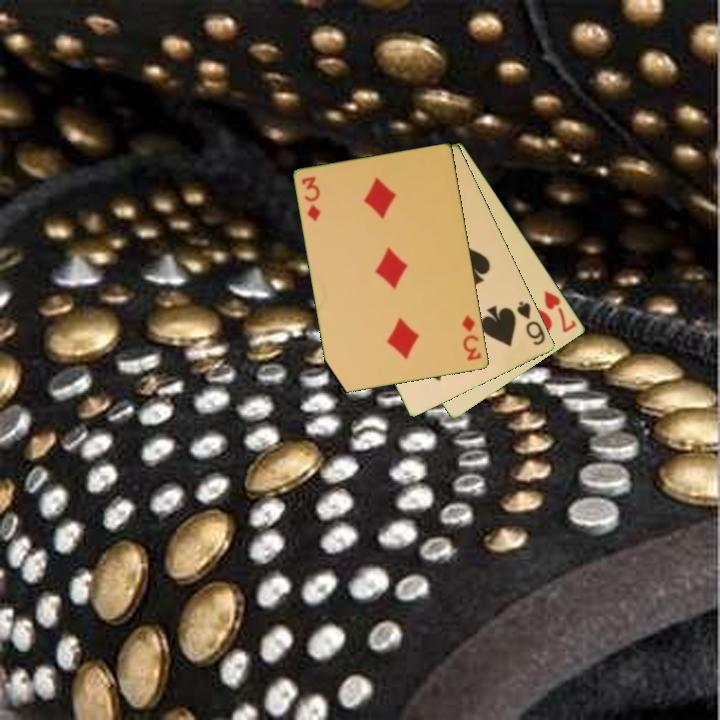3d: (459, 312, 485, 364), (298, 173, 324, 224)
6s: (514, 298, 548, 348)
7h: (541, 287, 580, 336)
